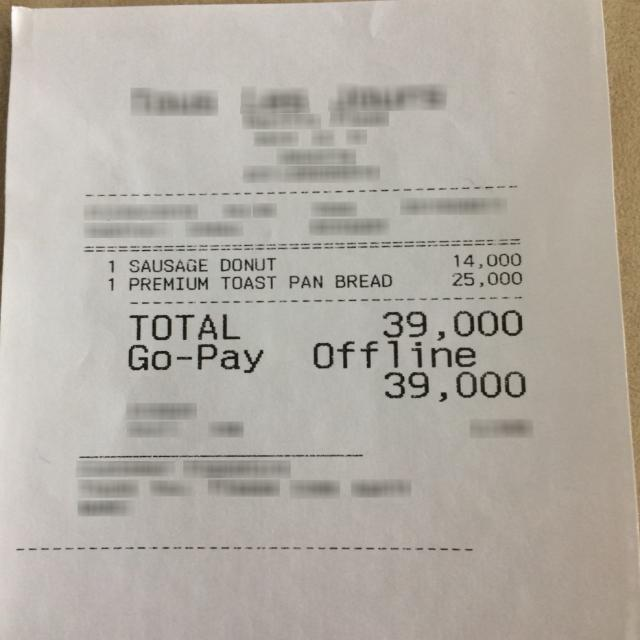text: (307, 339, 477, 370), (382, 309, 526, 340), (127, 342, 265, 374), (384, 371, 526, 401), (129, 313, 243, 341), (451, 270, 521, 287), (128, 258, 207, 272), (128, 276, 207, 290), (452, 252, 520, 268), (220, 275, 276, 289), (220, 257, 275, 271), (334, 274, 391, 287), (287, 275, 322, 287), (106, 276, 118, 293), (105, 258, 115, 270)
